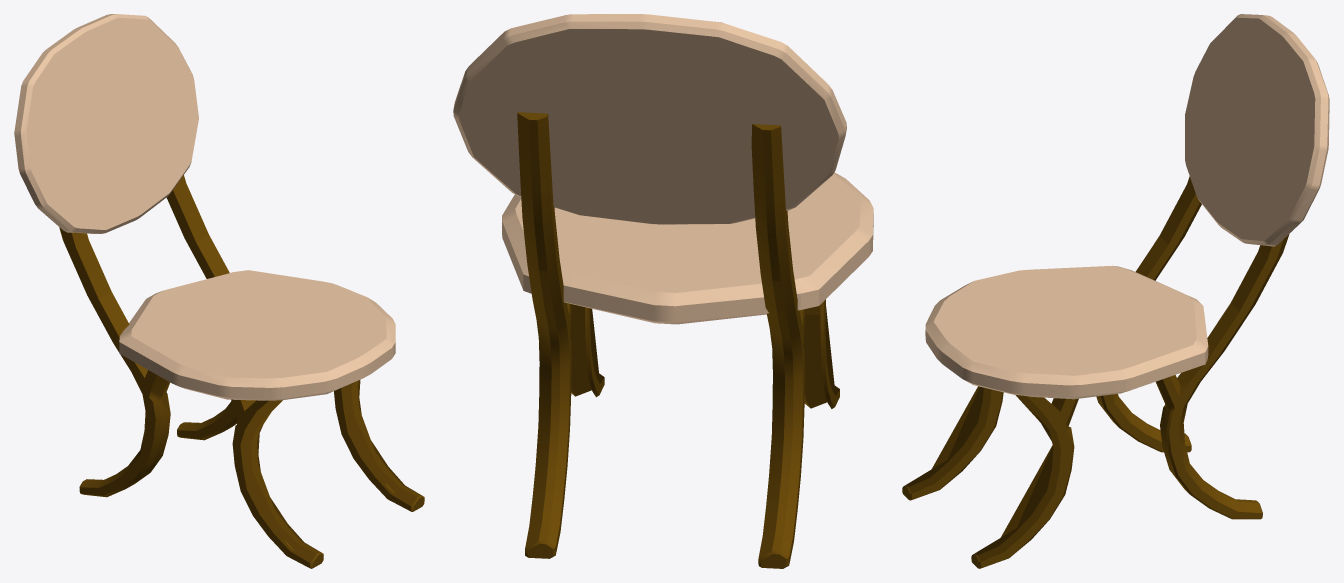
File: chair1.fbx
3 views of the same model, side by side, from view 1: azimuth 30°, elevation 25°; view 2: azimuth 150°, elevation 25°; view 3: azimuth 270°, elevation 25° (orthographic). The views are drawn at different scales.
Parts seen in each view (by area): view 1: chair1; view 2: chair1; view 3: chair1.
Boxes of the visible parts, x1=… form: chair1: x1=14, y1=14, x2=424, y2=568; chair1: x1=453, y1=14, x2=873, y2=568; chair1: x1=902, y1=14, x2=1329, y2=568.
Bounding box in the file's own units: 0.0321 × 0.0429 × 0.038.
